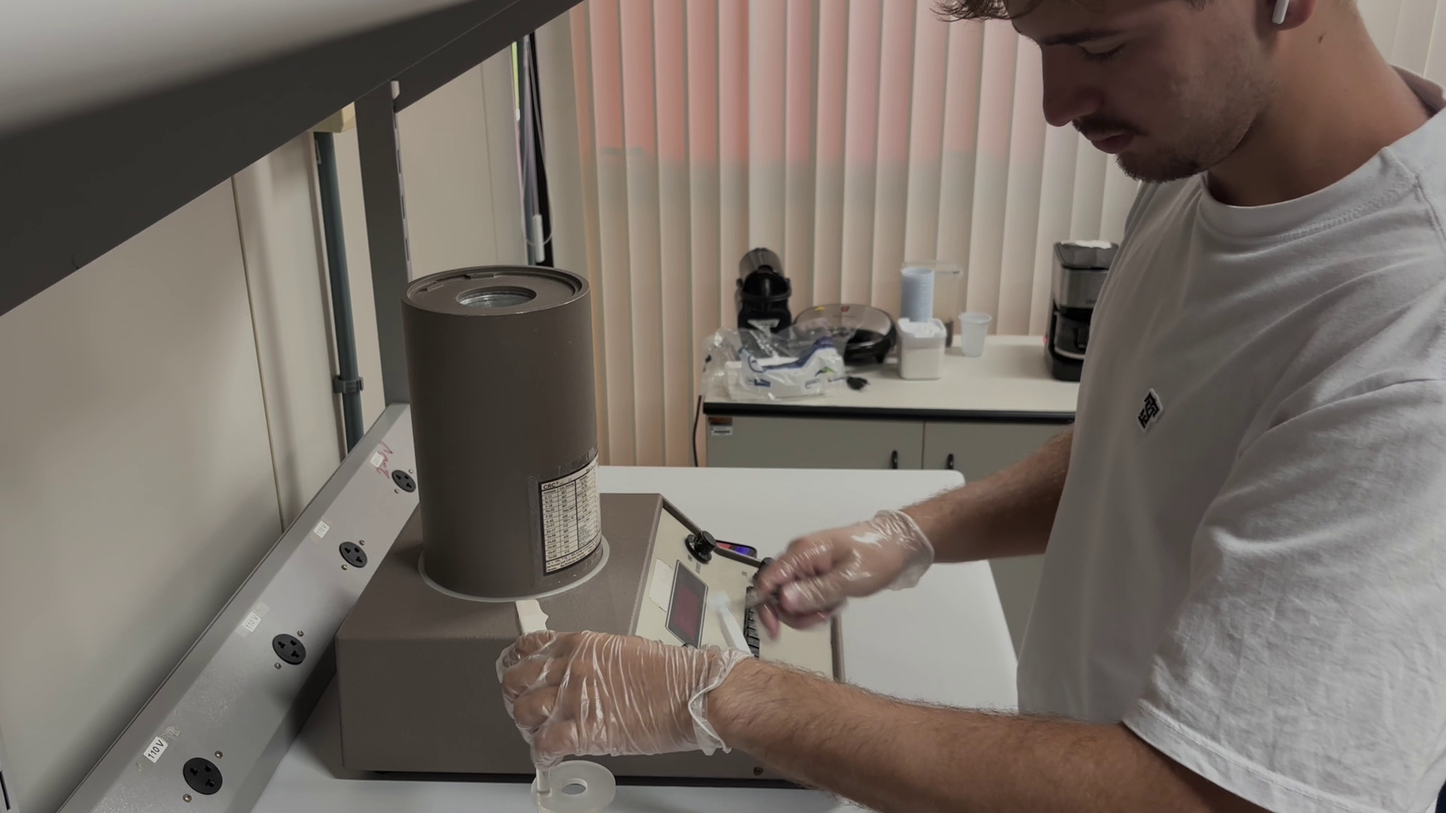Ativimetro: (399, 247, 610, 586)
Cesta: (511, 595, 629, 813)
Com_Luva: (495, 625, 759, 774), (754, 507, 936, 626)
